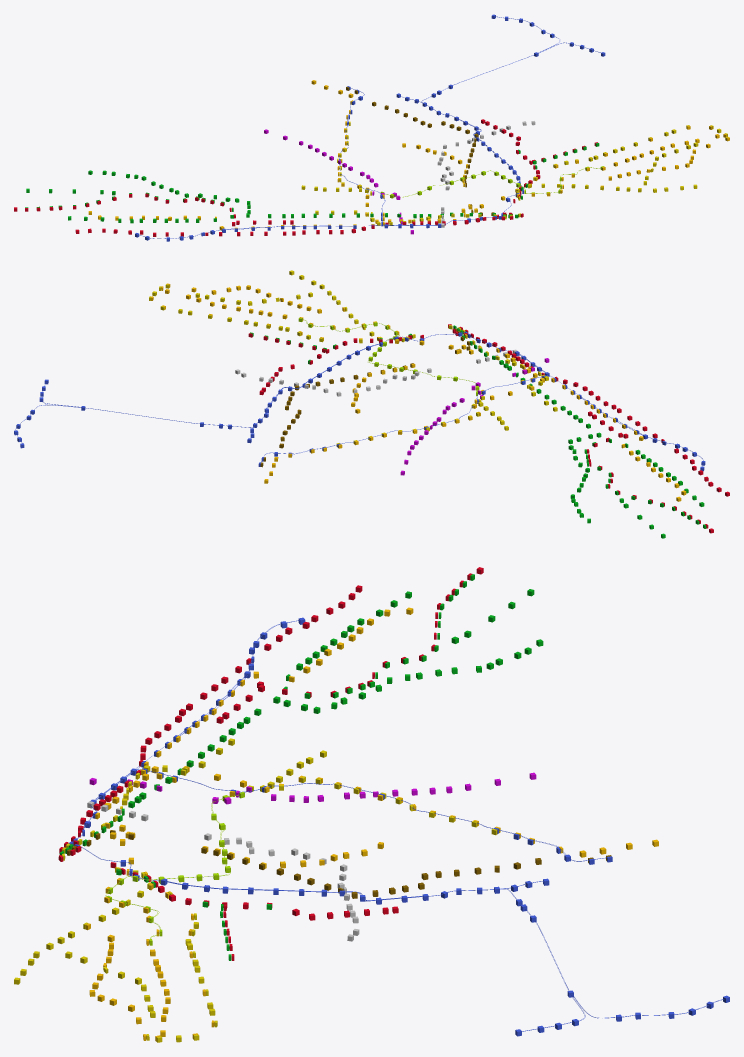
Rendered from subway_map_TRACK_STATIONS_ONLY_8.25.glb.
3 views of the same model, one above another, from view 1: azimuth 30°, elevation 25°; view 2: azimuth 150°, elevation 25°; view 3: azimuth 270°, elevation 25° (orthographic). The views are drawn at different scales.
Bounding box in the file's own units: 87.6 × 0.5476 × 56.26.
